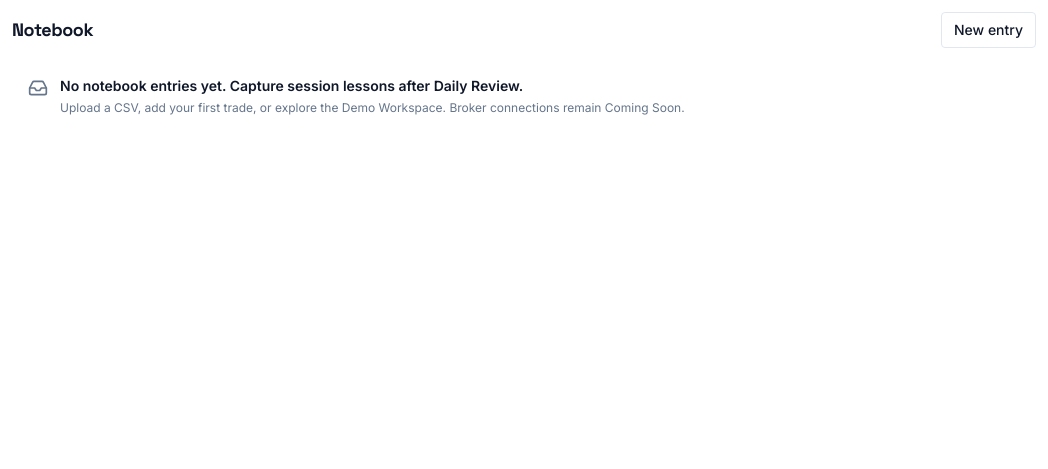
notebook UI smoke closure › opens a new editor without creating a row
The width and height of the screenshot is (1048, 469).
Click the button "New entry": (988, 30) 941,12 -> 1036,48
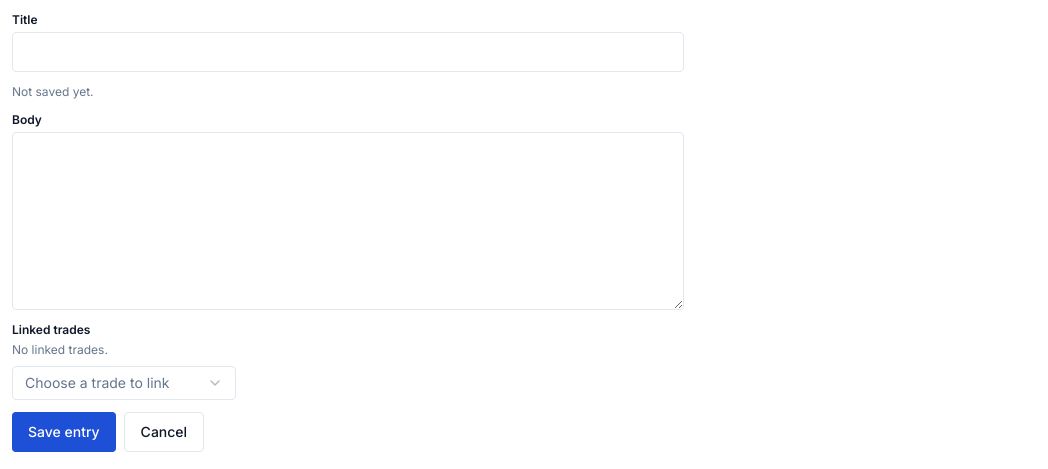
Expected: the button "Save entry" is shown, 12,412 -> 116,452
